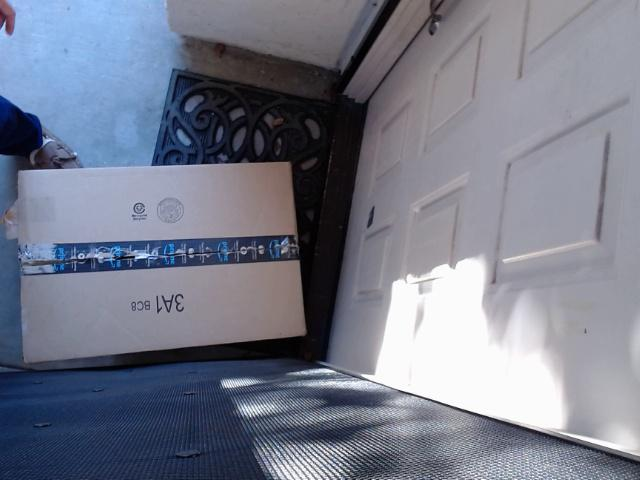box: (4, 149, 345, 350)
